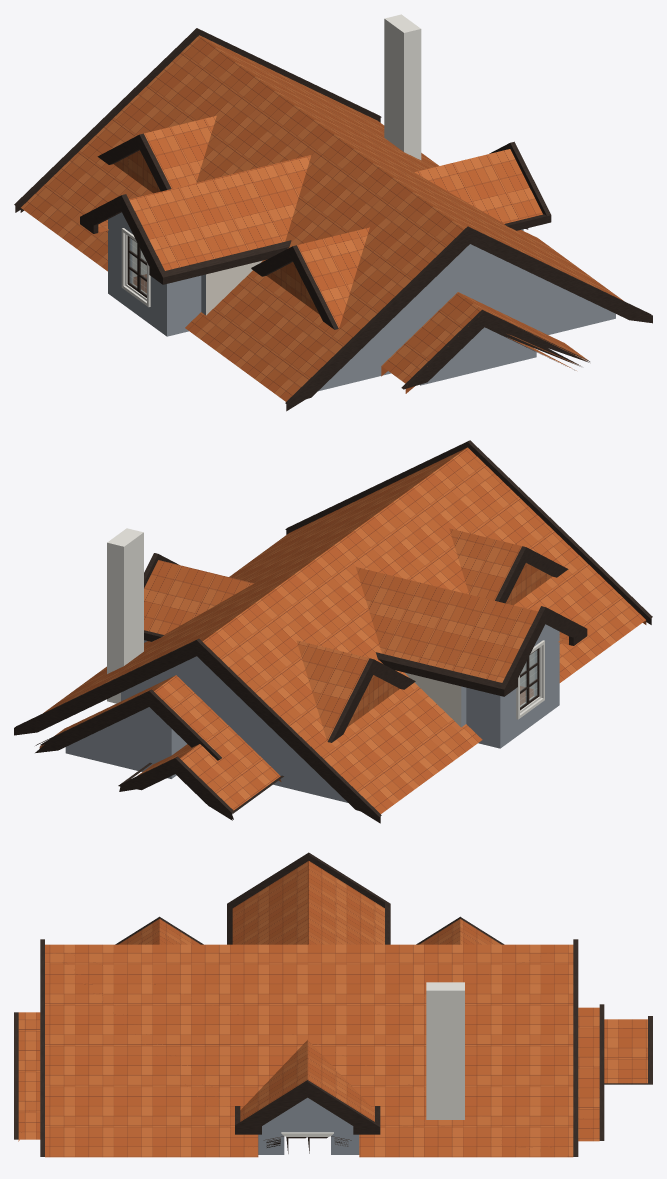
File: villa-f3.glb
3 views of the same model, one above another, from view 1: azimuth 30°, elevation 25°; view 2: azimuth 150°, elevation 25°; view 3: azimuth 270°, elevation 25° (orthographic).
Visible parts, largest first — view 1: F3 | ÇATII, F3 | ÇATI ALIN, F3 | KAT 3$DUVAR, F3 | ek dalgalar, F3 | PENCERE_KAPI$CEPHE FRAME, F3 | PENCERE_KAPI$CAM; view 2: F3 | ÇATII, F3 | ÇATI ALIN, F3 | KAT 3$DUVAR, F3 | ek dalgalar, F3 | PENCERE_KAPI$CAM, F3 | PENCERE_KAPI$CEPHE FRAME; view 3: F3 | ÇATII, F3 | ÇATI ALIN, F3 | ek dalgalar, F3 | KAT 3$DUVAR.
Boxes of the visible parts, bbox=[...] form: F3 | ÇATII: bbox=[21, 35, 623, 401]; F3 | ÇATI ALIN: bbox=[14, 28, 652, 411]; F3 | KAT 3$DUVAR: bbox=[108, 212, 615, 391]; F3 | ek dalgalar: bbox=[384, 14, 421, 159]; F3 | PENCERE_KAPI$CEPHE FRAME: bbox=[121, 228, 150, 307]; F3 | PENCERE_KAPI$CAM: bbox=[129, 237, 146, 295]; F3 | ÇATII: bbox=[39, 447, 646, 813]; F3 | ÇATI ALIN: bbox=[14, 440, 652, 823]; F3 | KAT 3$DUVAR: bbox=[65, 624, 559, 802]; F3 | ek dalgalar: bbox=[107, 528, 143, 703]; F3 | PENCERE_KAPI$CAM: bbox=[520, 650, 537, 707]; F3 | PENCERE_KAPI$CEPHE FRAME: bbox=[516, 640, 544, 719]; F3 | ÇATII: bbox=[18, 861, 647, 1157]; F3 | ÇATI ALIN: bbox=[14, 852, 652, 1156]; F3 | ek dalgalar: bbox=[426, 982, 464, 1119]; F3 | KAT 3$DUVAR: bbox=[258, 1097, 359, 1154].
Size of the model in its own units: 11.56 by 5 by 16.46.
Materials: 19 (19 with a texture image).
